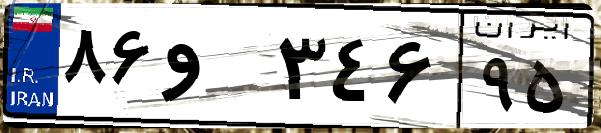3: (270, 28, 330, 110)
4: (330, 28, 385, 110)
5: (525, 38, 570, 115)
6: (385, 28, 445, 110), (110, 28, 158, 98)
8: (57, 26, 110, 100)
9: (475, 38, 525, 113)
و: (158, 20, 270, 120)
